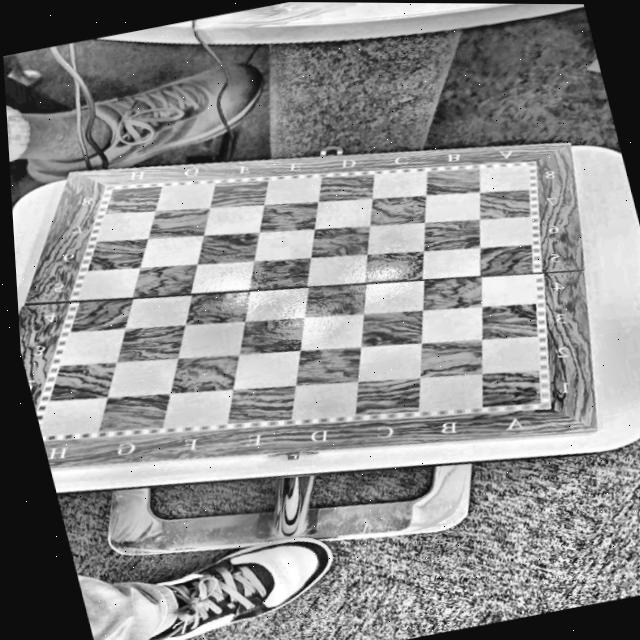chessboard: (20, 144, 595, 466)
